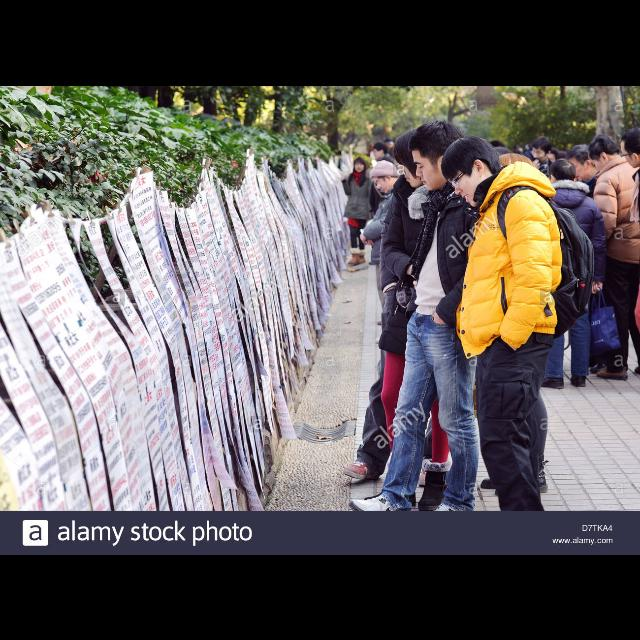head: (410, 119, 470, 191), (440, 136, 500, 206), (393, 125, 443, 189), (396, 132, 438, 188), (588, 134, 620, 172), (372, 160, 400, 194), (548, 158, 576, 190), (373, 142, 389, 160), (354, 156, 366, 172)
person: (342, 117, 508, 548), (358, 122, 470, 514), (340, 130, 460, 488), (528, 156, 612, 390), (358, 158, 414, 348), (339, 152, 379, 268), (366, 138, 398, 266)
